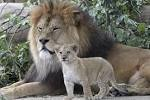lion: (16, 2, 150, 93)
